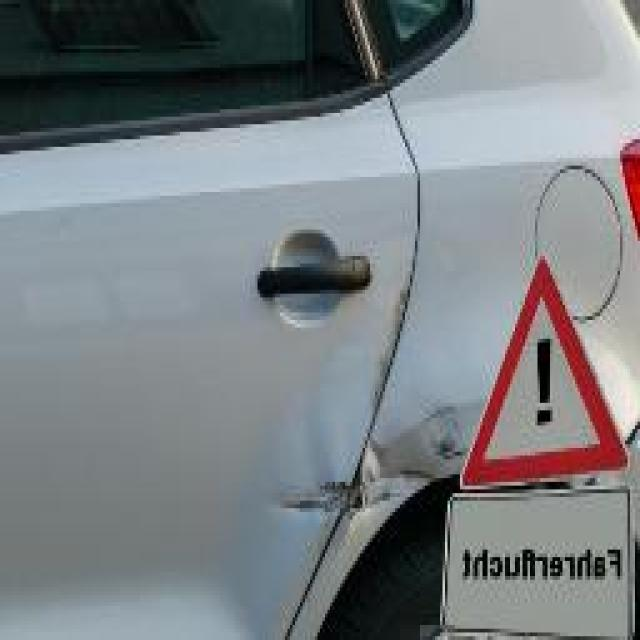Bumper: (368, 369, 625, 538)
Door: (265, 271, 405, 531)
